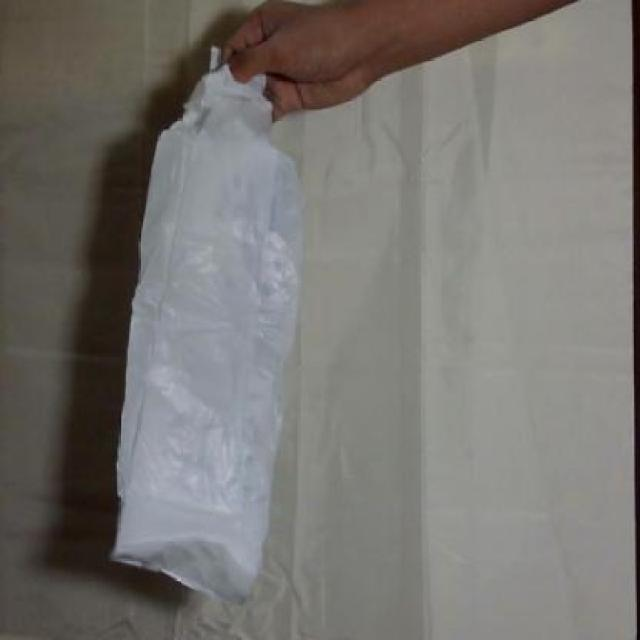Plastic: (109, 64, 303, 603)
